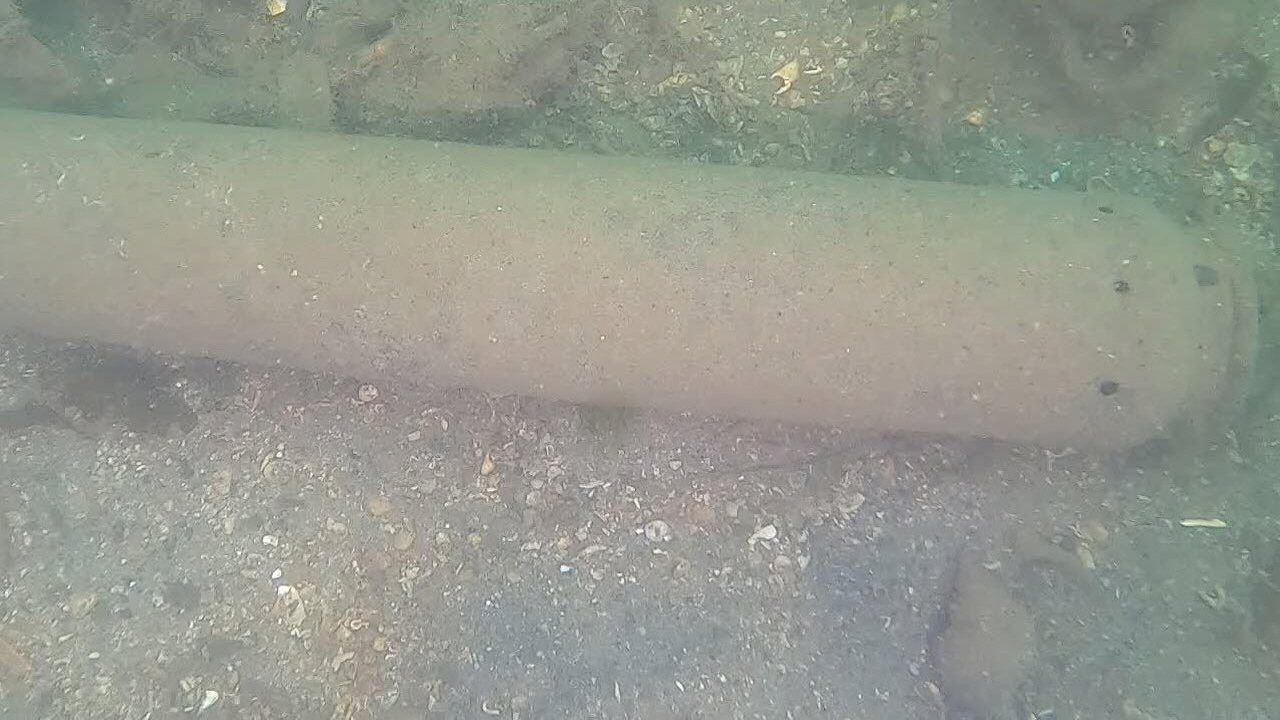eel fish trap: (0, 104, 1257, 450)
